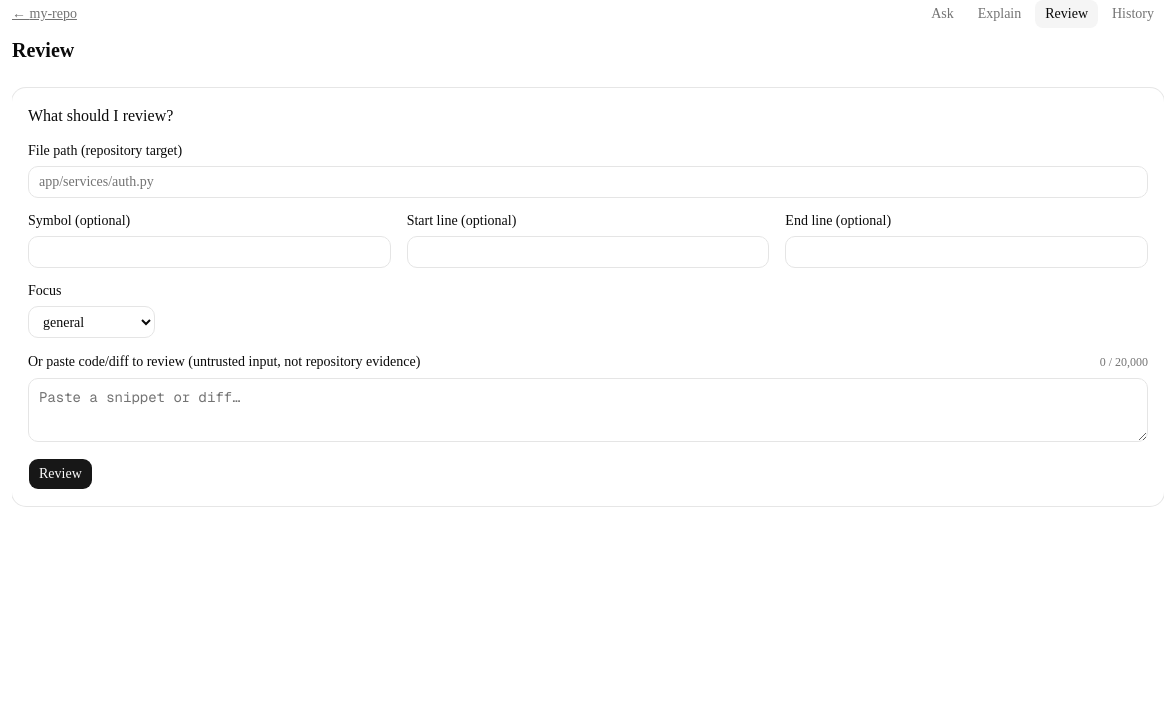
Test: ReviewPage › requires a file path or user-provided code before submitting
Expected: the field labelled "File path (repository target)" is shown, [28, 166, 1148, 198]
Click the button "Review": (60, 474) [28, 458, 93, 490]
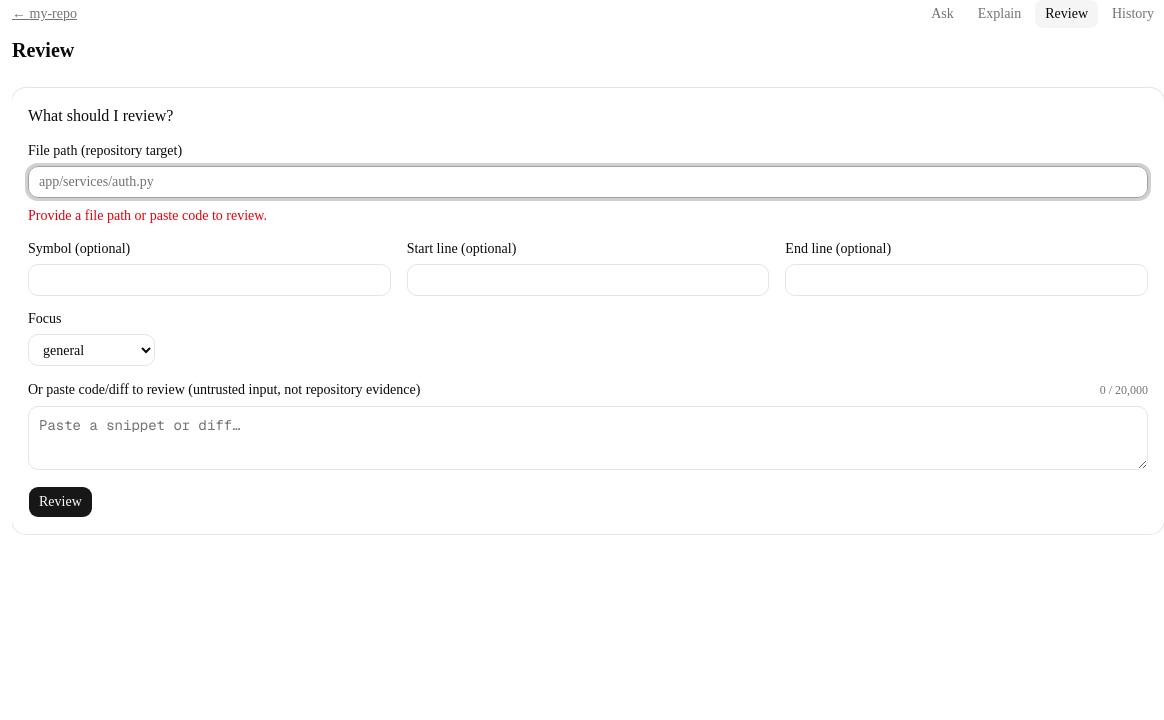
Now the text "Provide a file path or paste code to review." is shown, box [28, 208, 267, 223]
